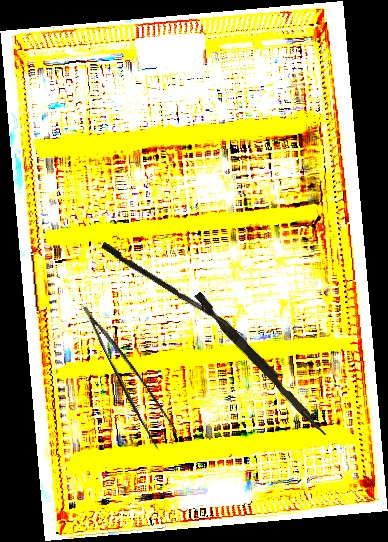Hook Surgical: (99, 241, 248, 337)
Pusher: (190, 291, 333, 438)
Tissue Forceps: (83, 294, 181, 454)
